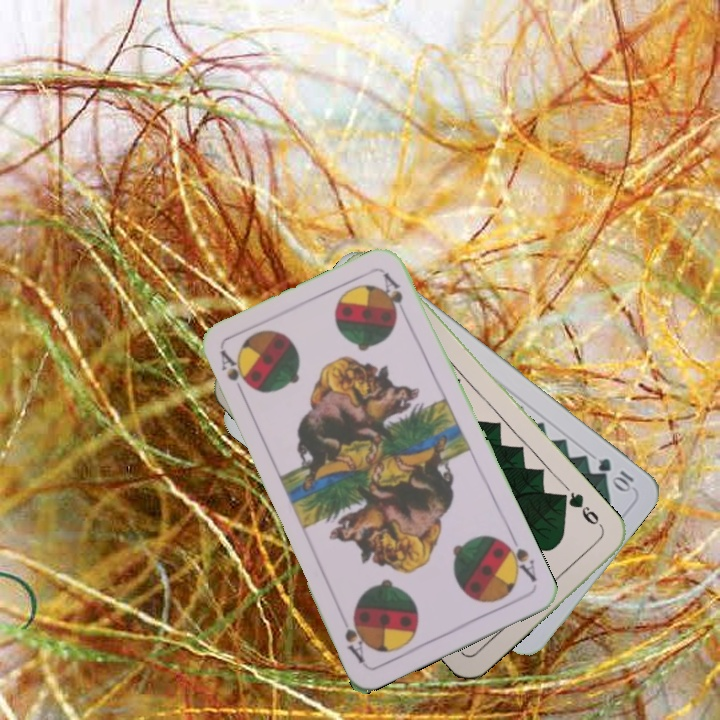G10: (594, 453, 637, 494)
G9: (557, 488, 606, 533)
SA: (497, 531, 539, 585), (216, 346, 249, 402)
